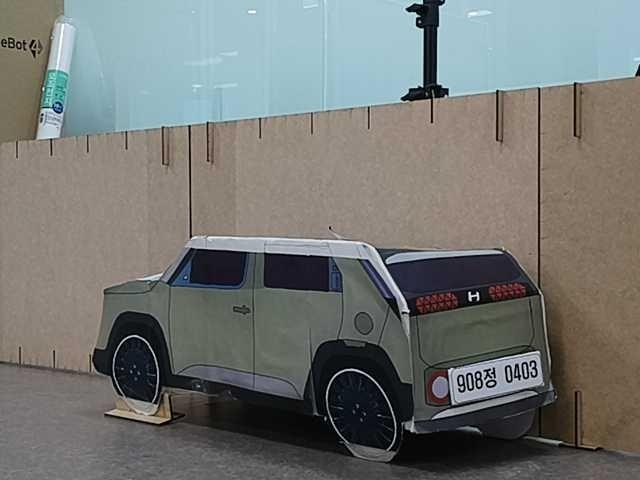car: (88, 231, 559, 465)
id: (446, 351, 545, 405)
